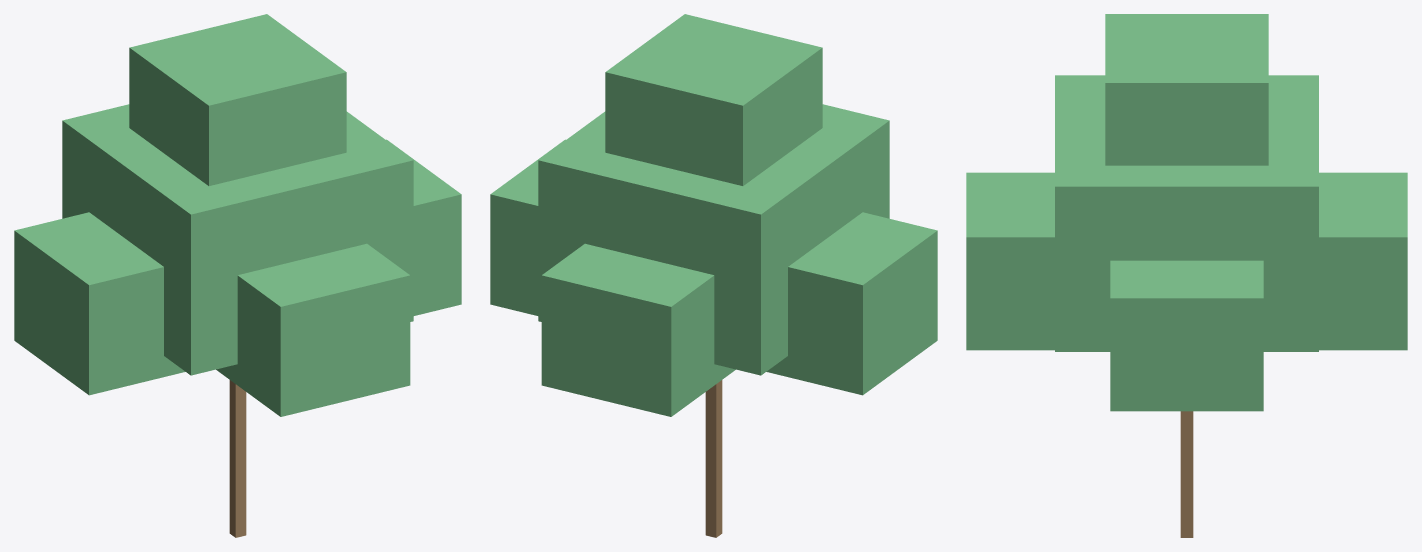
File: Prop_DS_Tree_38.glb
3 views of the same model, side by side, from view 1: azimuth 30°, elevation 25°; view 2: azimuth 150°, elevation 25°; view 3: azimuth 270°, elevation 25° (orthographic). The views are drawn at different scales.
Parts seen in each view (by area): view 1: Cube.001, Cube.006, Cube.005, Cube.003, Cube.002, Cube; view 2: Cube.001, Cube.006, Cube.004, Cube.003, Cube.002, Cube; view 3: Cube.001, Cube.006, Cube.002, Cube.004, Cube.005, Cube.
Part boxes in pixels (x1=…): Cube.001: x1=62, y1=104, x2=413, y2=375; Cube.006: x1=129, y1=14, x2=346, y2=185; Cube.005: x1=216, y1=243, x2=410, y2=416; Cube.003: x1=14, y1=212, x2=185, y2=395; Cube.002: x1=386, y1=139, x2=461, y2=315; Cube: x1=229, y1=380, x2=246, y2=537; Cube.001: x1=538, y1=104, x2=889, y2=375; Cube.006: x1=605, y1=14, x2=822, y2=185; Cube.004: x1=541, y1=243, x2=735, y2=416; Cube.003: x1=766, y1=212, x2=937, y2=395; Cube.002: x1=490, y1=139, x2=565, y2=315; Cube: x1=705, y1=380, x2=722, y2=537; Cube.001: x1=1055, y1=75, x2=1318, y2=351; Cube.006: x1=1105, y1=14, x2=1268, y2=165; Cube.002: x1=1110, y1=260, x2=1263, y2=411; Cube.004: x1=1319, y1=172, x2=1407, y2=350; Cube.005: x1=966, y1=172, x2=1054, y2=350; Cube: x1=1180, y1=411, x2=1193, y2=537.
Size of the model in its own units: 10.58 by 12.88 by 10.58.
